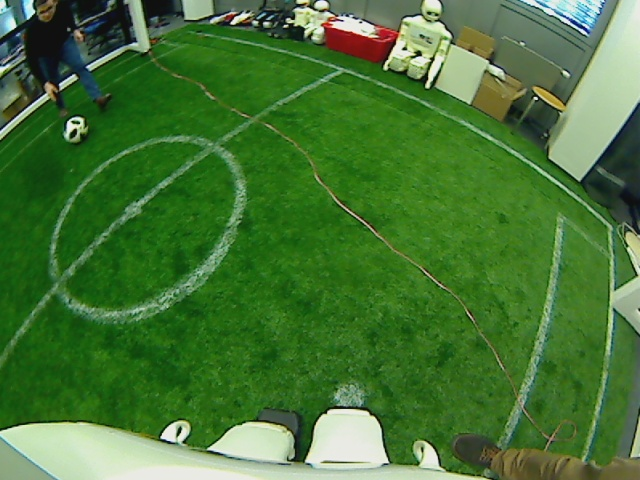ball: (63, 115, 89, 143)
